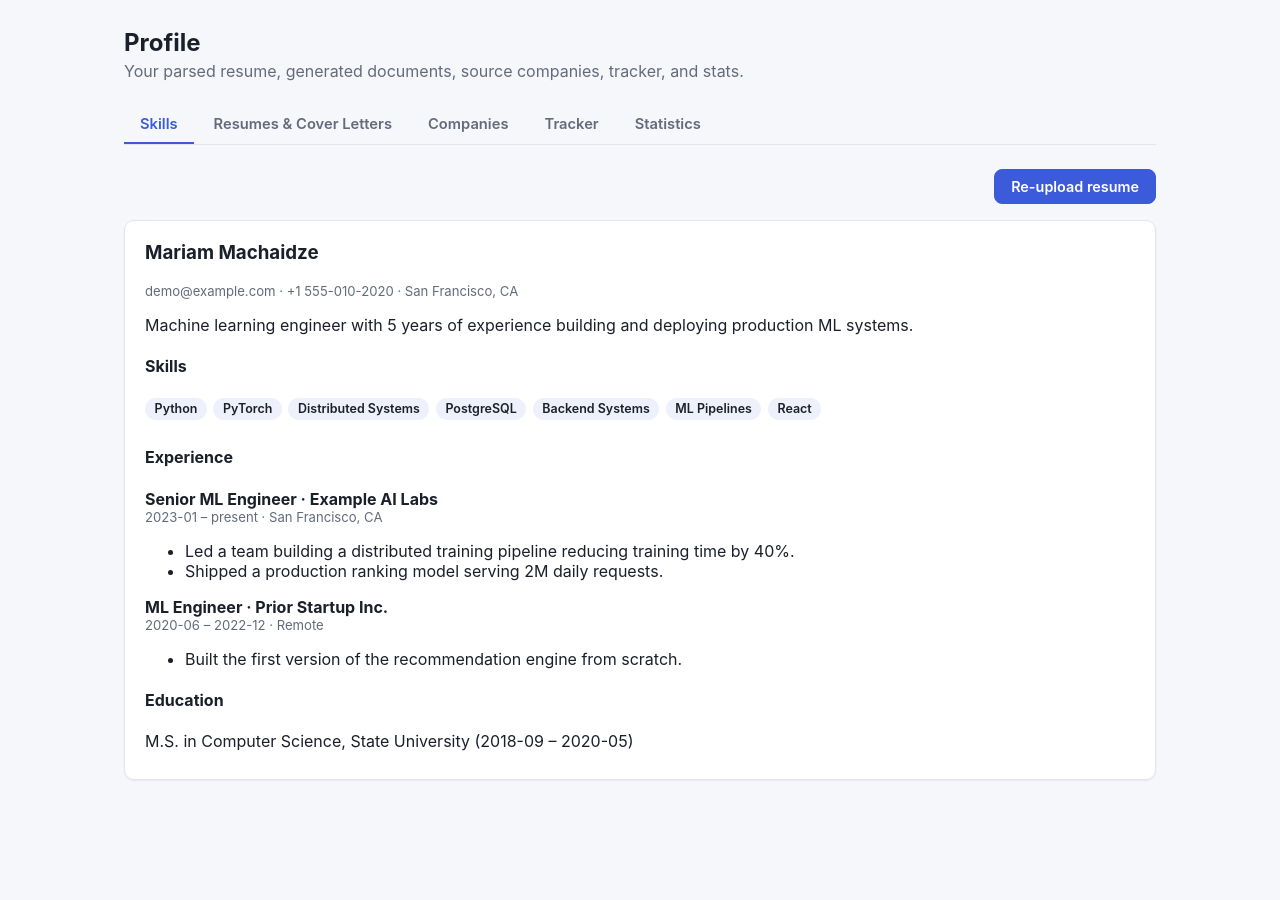
Test: ProfilePage › switches to the Statistics tab and shows stat tiles
Expected: the heading "Mariam Machaidze" is shown, [145,241,318,264]
Click the tab "Statistics" at (668, 125), box [619,105,717,144]
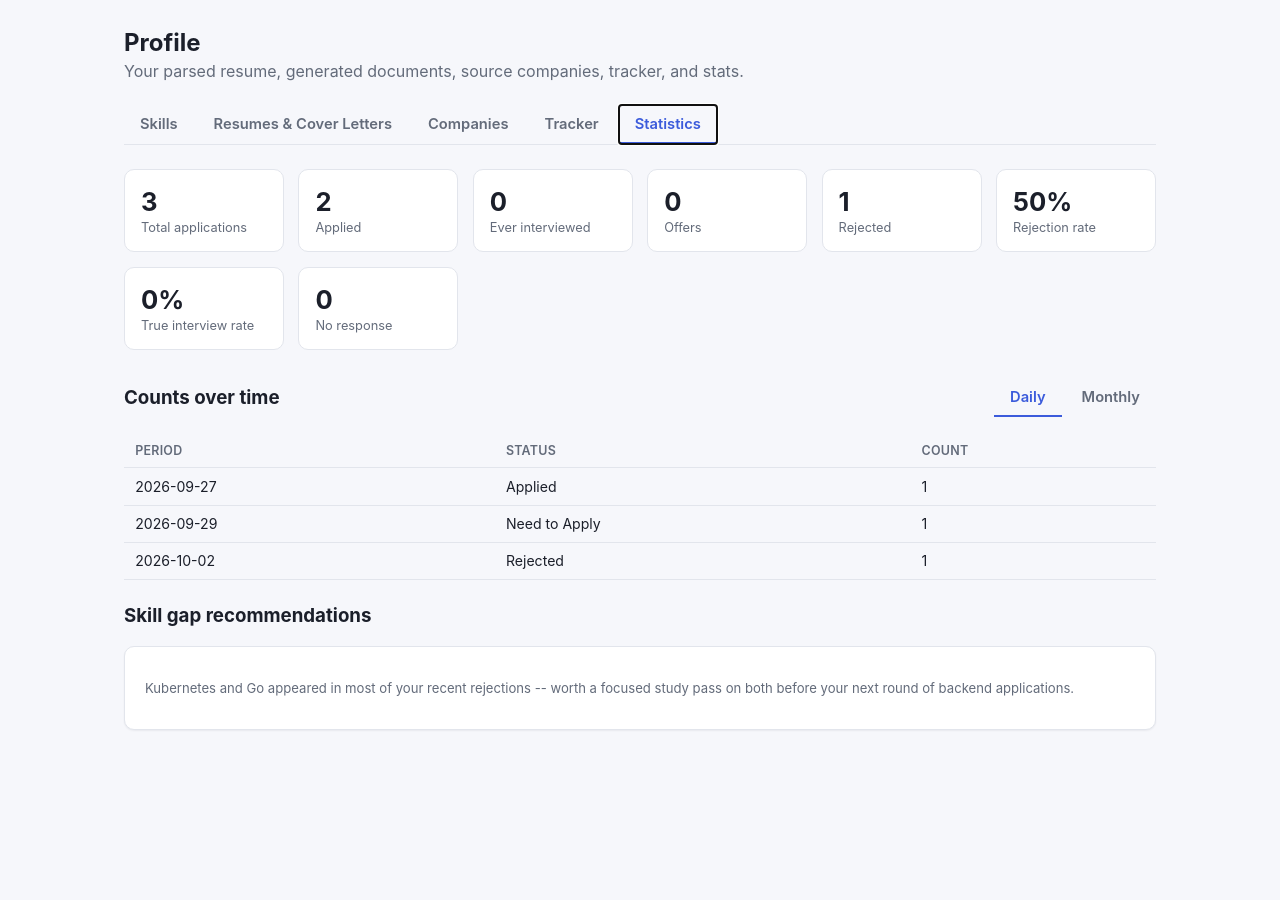
Expected: the text "Total applications" is shown, [141,220,247,235]
Expected: the heading "Skill gap recommendations" is shown, [124,604,372,627]
